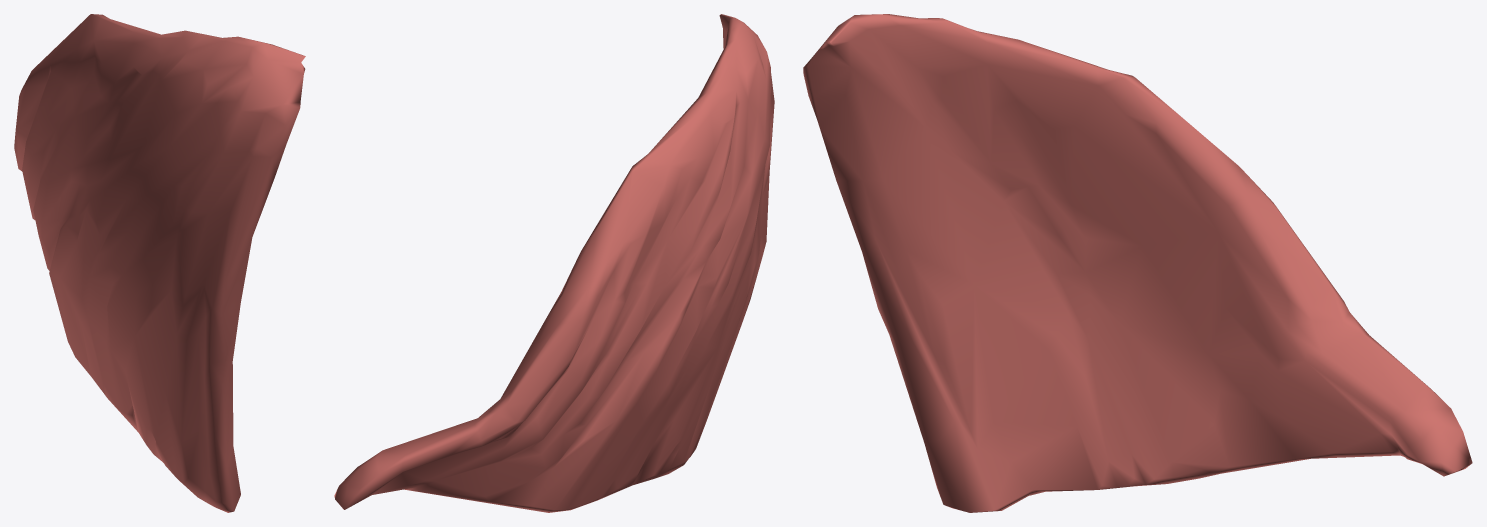
The picture shows the model from 3 angles, left to right: view 1: azimuth 30°, elevation 25°; view 2: azimuth 150°, elevation 25°; view 3: azimuth 270°, elevation 25°; orthographic projection. The views are drawn at different scales.
Visible parts, largest first — view 1: 右侧颊肌; view 2: 右侧颊肌; view 3: 右侧颊肌.
Part boxes in pixels (x1,y1,x2,y2): 右侧颊肌: [14, 14, 305, 512]; 右侧颊肌: [334, 14, 774, 512]; 右侧颊肌: [803, 14, 1472, 512].
Size of the model in its own units: 0.0221 by 0.0426 by 0.0535.
